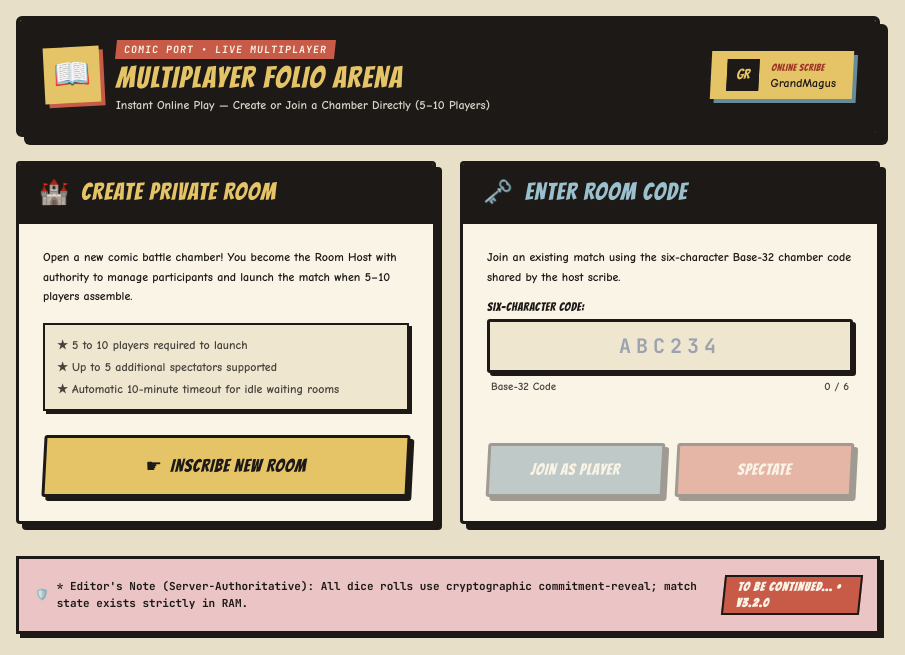
MultiplayerLobbyScreen Component Tests (Milestone 1.1) › formats room code input: uppercases, limits to 6 chars, and filters non-Base32
In the field with placeholder "ABC234": (670, 346) [487, 319, 853, 373], type "ab1iou-234xyz"
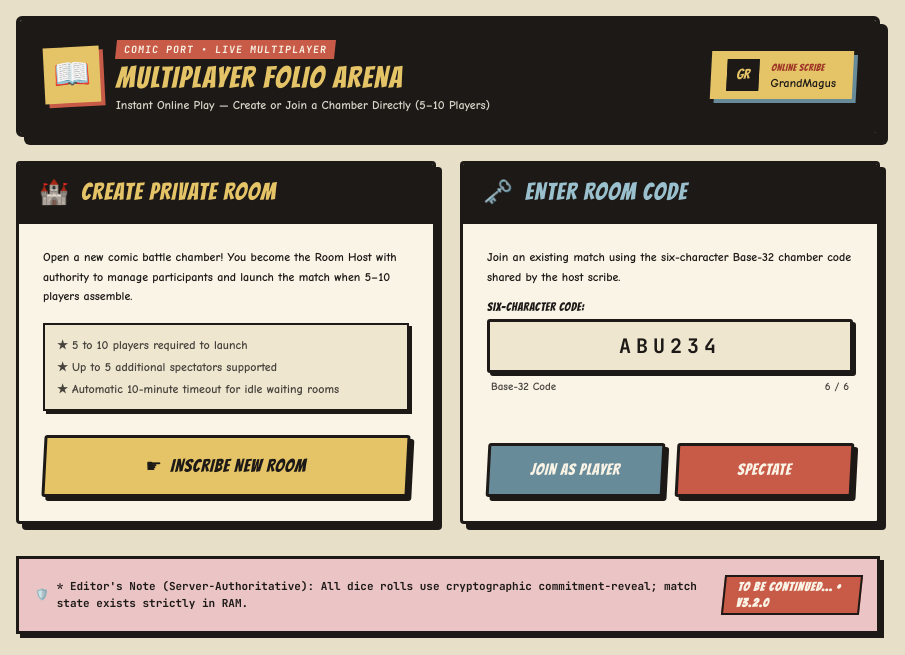
Result: the field with placeholder "ABC234" holds "ABU234" at [487, 319, 853, 373]
Result: the text "6 / 6" is shown at [825, 379, 849, 396]
